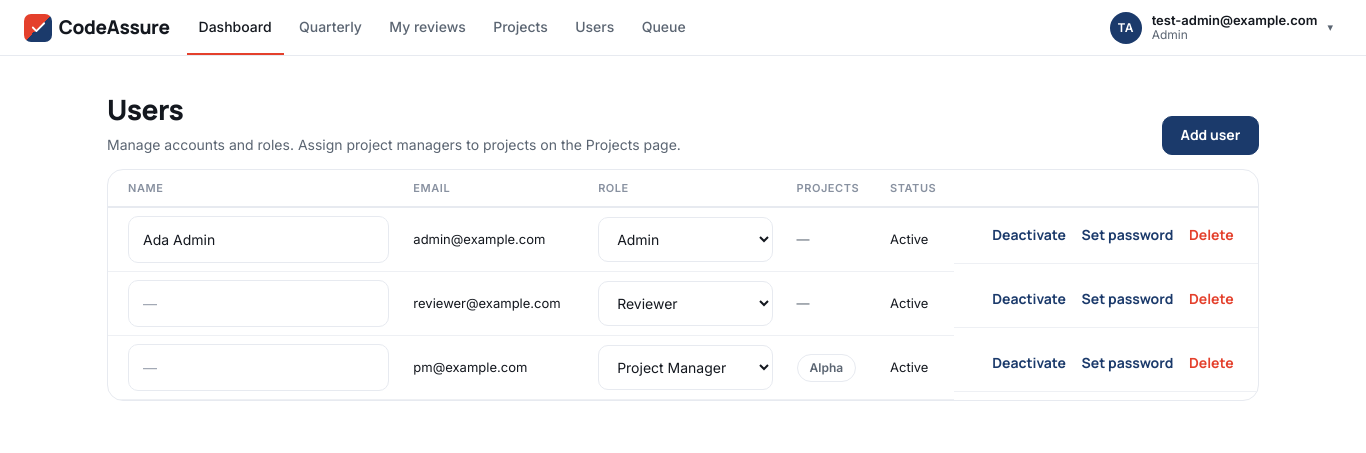
Test case: shows an error message instead of failing silently when deactivating is rejected
Expected: the text "reviewer@example.com" is shown, 401,272 -> 586,336
Click the button with aria-label "deactivate reviewer@example.com". click: {"x": 1029, "y": 299}
box: 988,280 -> 1070,319
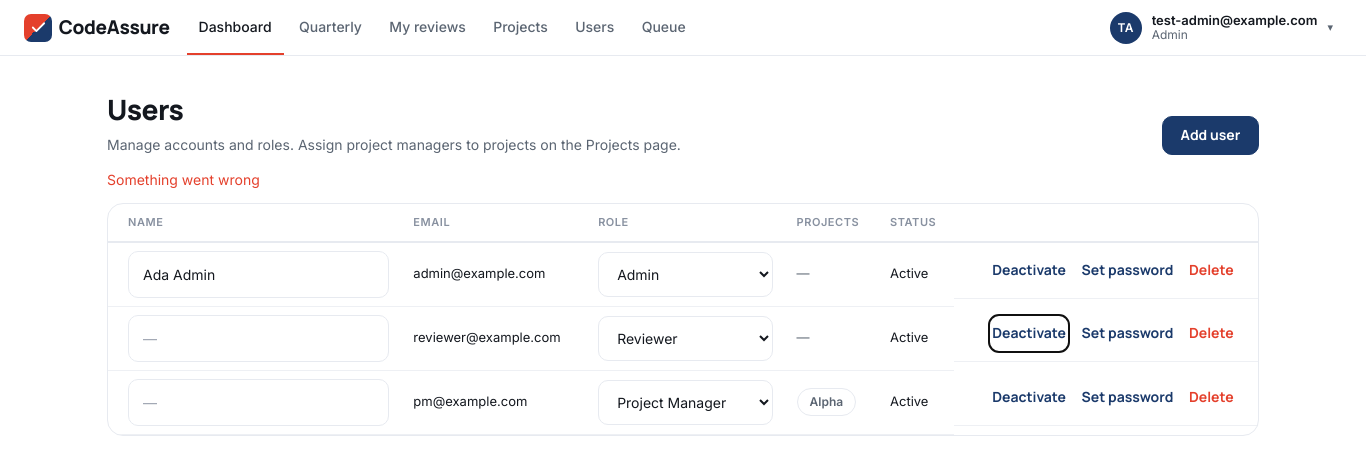
Now the text "Something went wrong" is shown, box 107,171 -> 260,188
